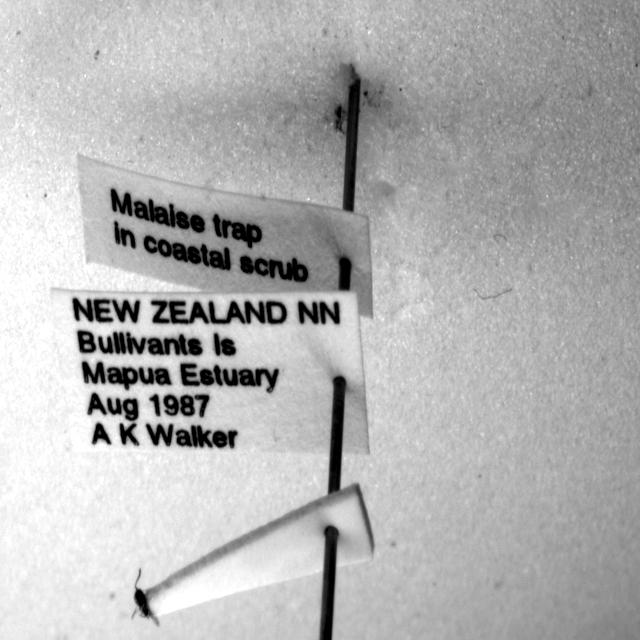typed_label: (51, 289, 369, 454), (78, 156, 372, 317)
